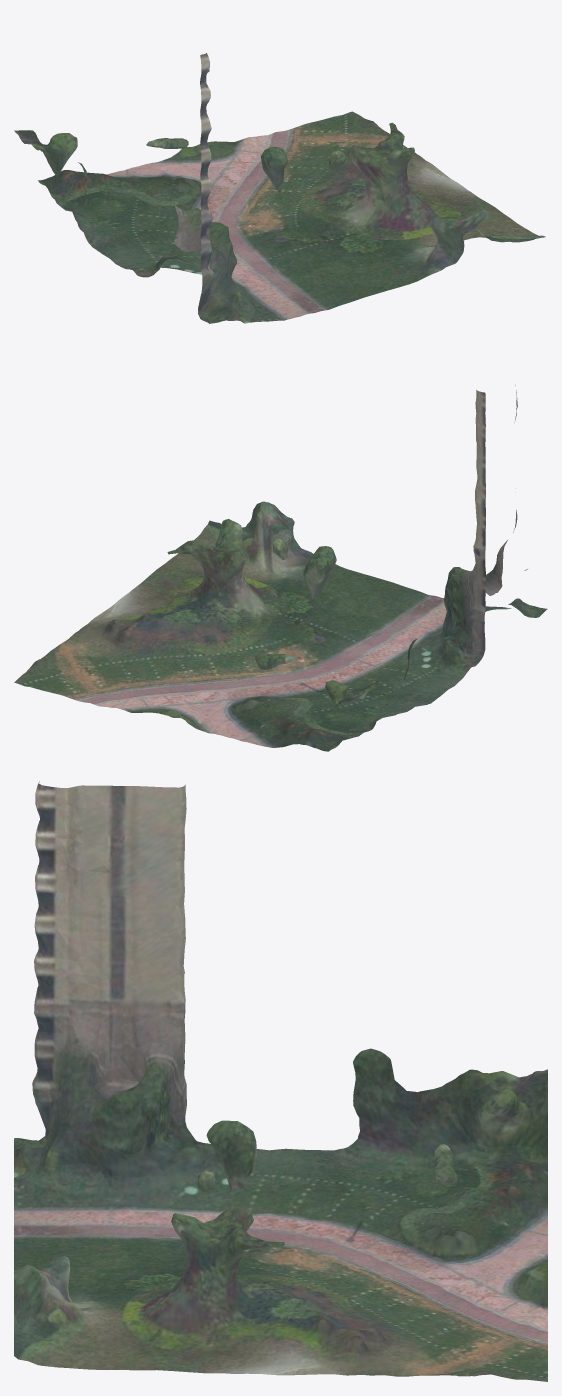
File: Tile_+003_+001_L22_00001000.glb
3 renders of one model, top to bottom at view 1: azimuth 30°, elevation 25°; view 2: azimuth 150°, elevation 25°; view 3: azimuth 270°, elevation 25°, orthographic. The views are drawn at different scales.
Parts seen in each view (by area): view 1: rtc; view 2: rtc; view 3: rtc.
Part boxes in pixels (bbox=[...]): rtc: bbox=[14, 53, 545, 323]; rtc: bbox=[14, 385, 547, 751]; rtc: bbox=[14, 781, 547, 1381].
Bounding box in the file's own units: 25.59 × 20.13 × 25.59.
Materials: 1 (1 with a texture image).
